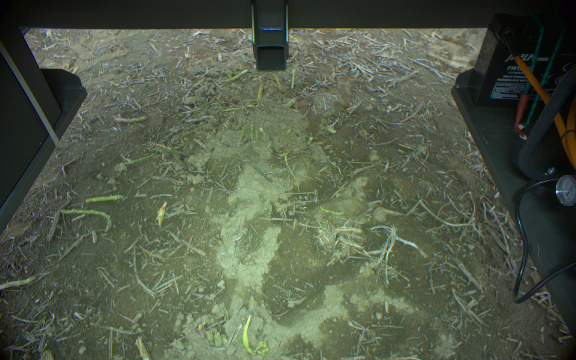aspa: (242, 313, 270, 360), (59, 209, 113, 231), (224, 67, 249, 84), (84, 193, 124, 201), (255, 76, 263, 100)
